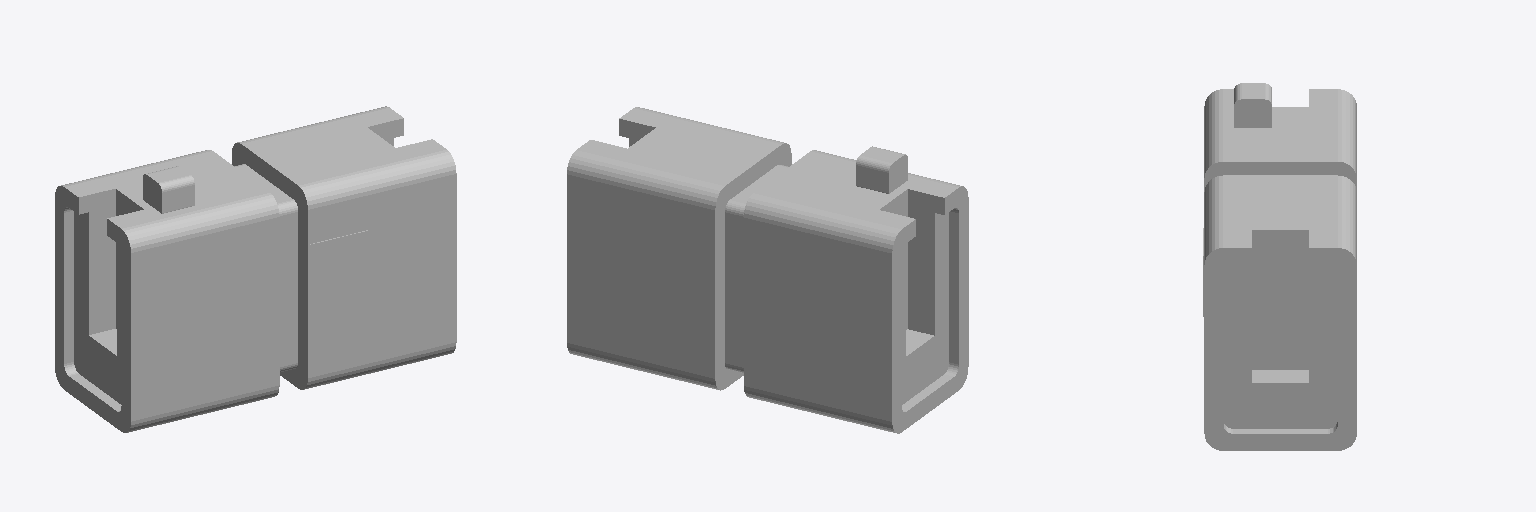
The model's file is workssys.r.mt.obj.
3 views of the same model, side by side, from view 1: azimuth 30°, elevation 25°; view 2: azimuth 150°, elevation 25°; view 3: azimuth 270°, elevation 25° (orthographic).
Visible parts, largest first — view 1: shell1, shell2, core, screen, hat; view 2: shell1, shell2, core, hat; view 3: shell2, core, shell1, hat.
Part boxes in pixels (x1,y1,x2,y2): shell1: (55,150,279,432); shell2: (232,106,456,389); core: (74,138,393,404); screen: (310,230,367,304); hat: (143,166,194,213); shell1: (744,150,968,433); shell2: (567,107,791,390); core: (629,138,948,404); hat: (856,146,907,193); shell2: (1204,175,1356,450); core: (1223,247,1337,428); shell1: (1204,89,1356,191); hat: (1234,83,1271,127).
Size of the model in its own units: 3.94 by 2.68 by 1.61.